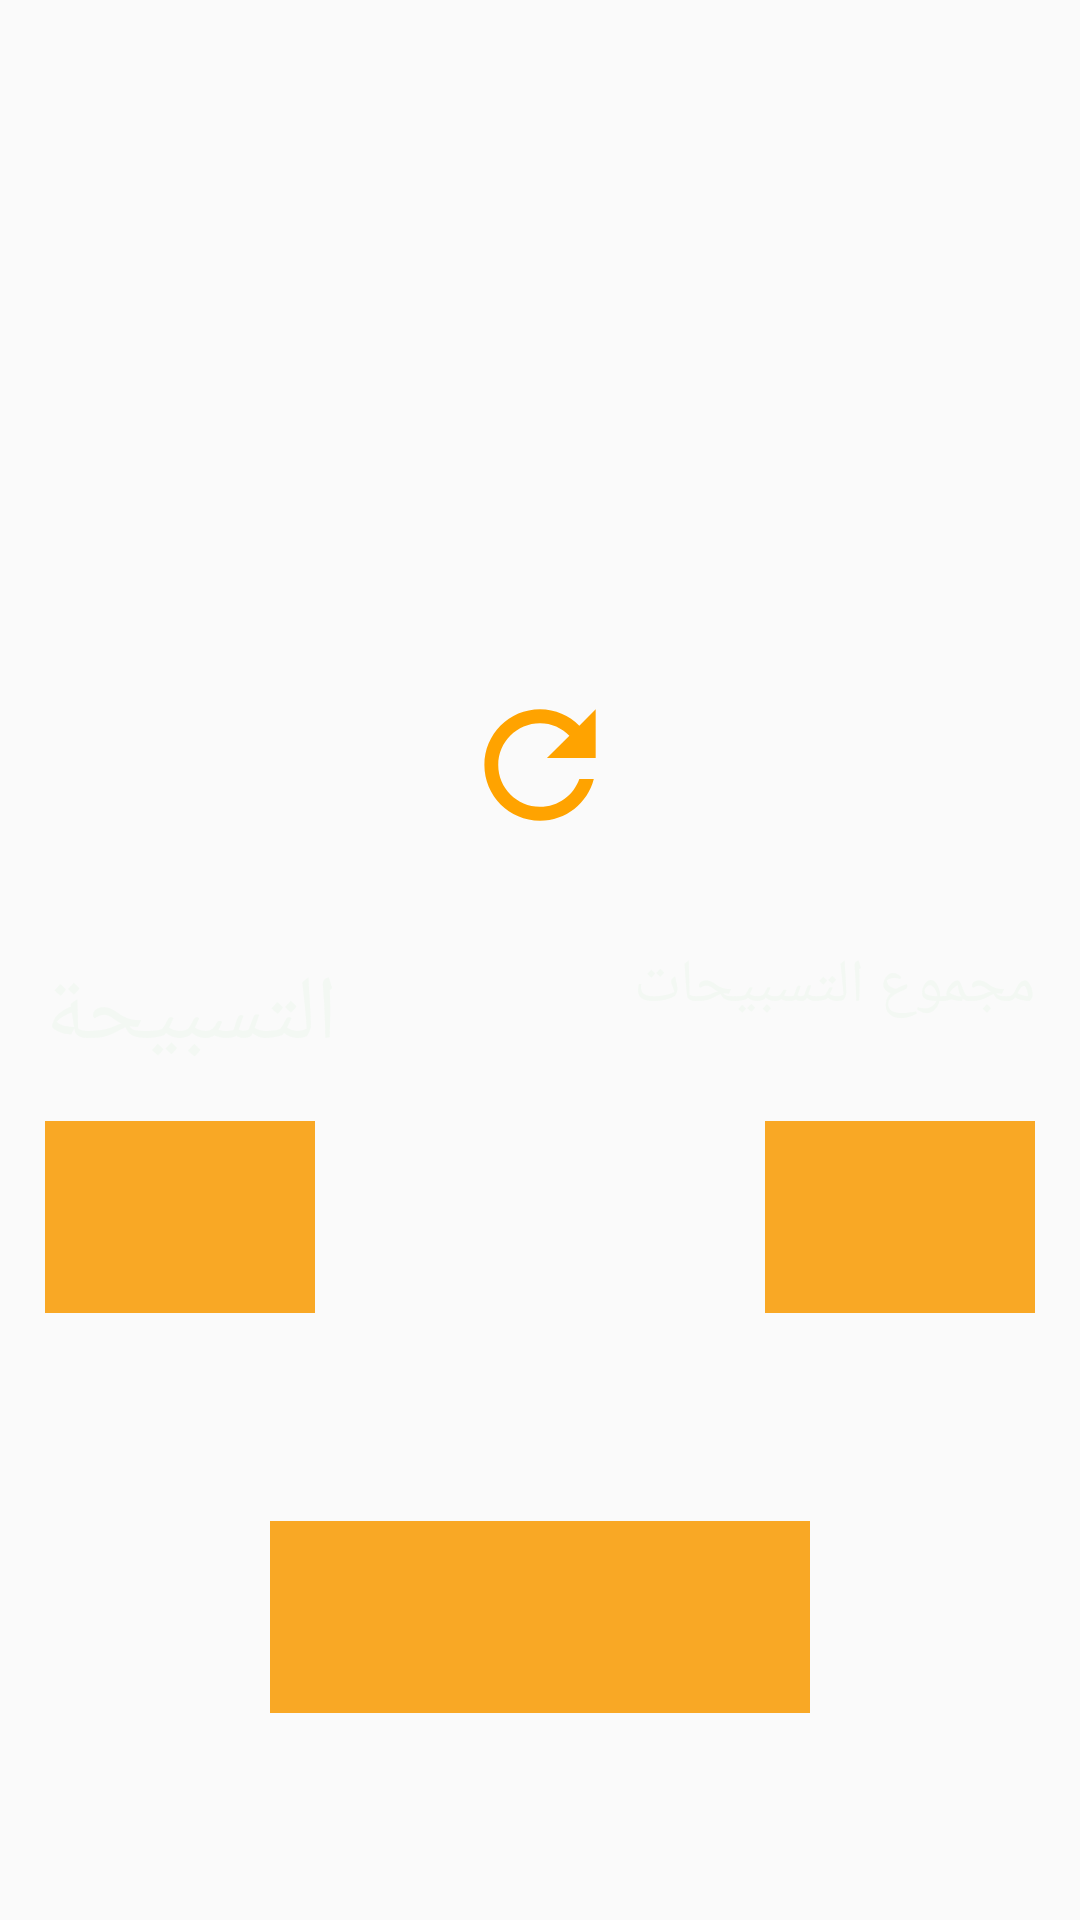

Icon click points for this 1080px x 1920px phone screenshot, format (x=x, y=y):
refresh: (x=540, y=765)
